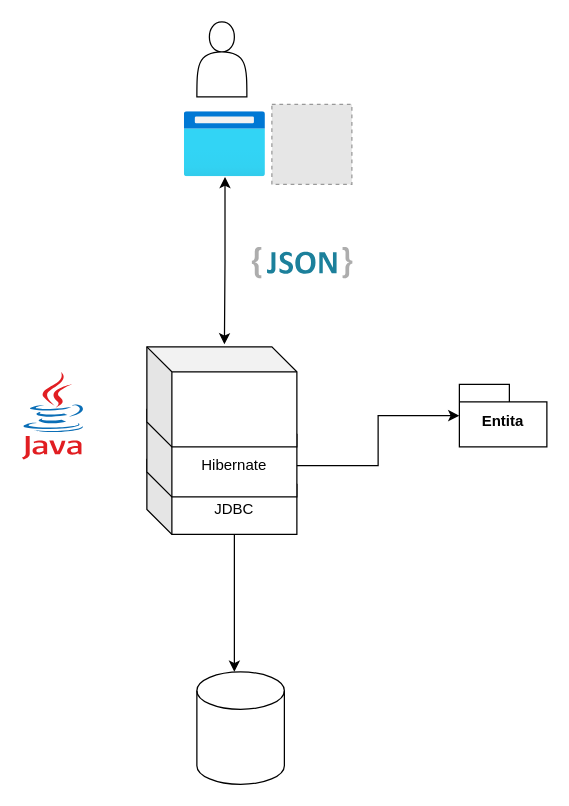
The diagram is 569 pixels wide and 806 high, and some of its shapes have lost their labels. Grey dashed boxes stand in for pictures. The shapes that lost their labels are listed below. From the top down, each one's centre as x and y in pixels, then its label:
At pixel 221 396: "REST API".
At pixel 240 727: "DBMS".
